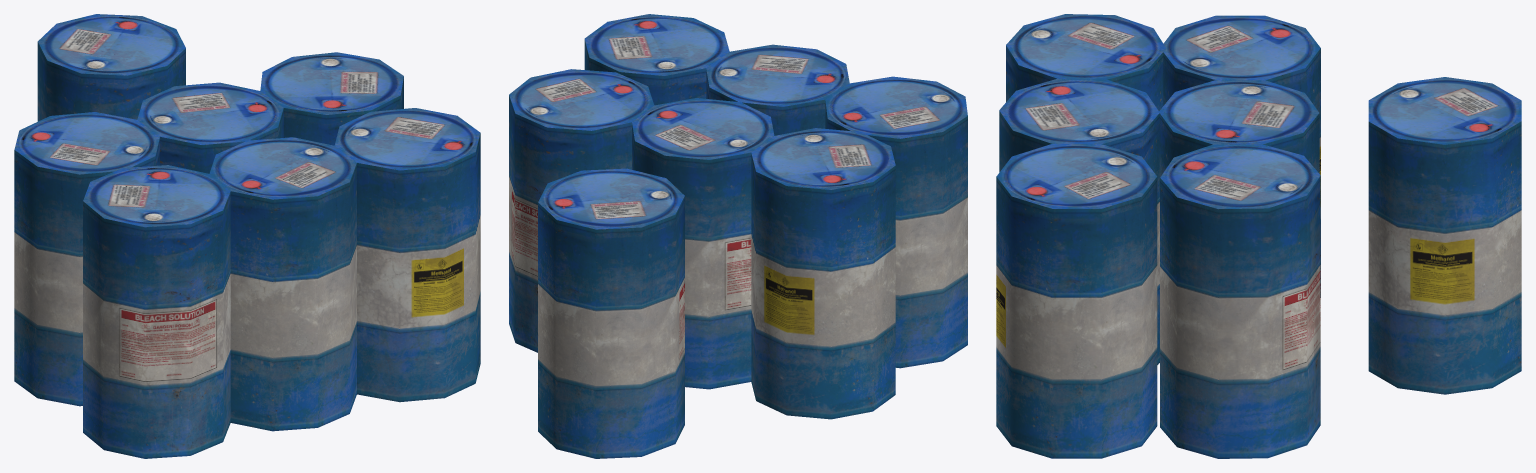
The model's file is Barrel_v3.FBX.
3 renders of one model, left to right at view 1: azimuth 30°, elevation 25°; view 2: azimuth 150°, elevation 25°; view 3: azimuth 270°, elevation 25°, orthographic. The views are drawn at different scales.
Parts seen in each view (by area): view 1: Barrel_v3_quadro, Barrel_v3_single; view 2: Barrel_v3_quadro, Barrel_v3_single; view 3: Barrel_v3_quadro, Barrel_v3_single.
Part boxes in pixels (<box>): Barrel_v3_quadro: <box>14,52,480,458</box>; Barrel_v3_single: <box>37,14,185,121</box>; Barrel_v3_quadro: <box>509,14,967,419</box>; Barrel_v3_single: <box>538,168,684,458</box>; Barrel_v3_quadro: <box>996,14,1320,458</box>; Barrel_v3_single: <box>1368,77,1521,394</box>.
Bounding box in the file's own units: 1.6 × 0.9552 × 1.82.
